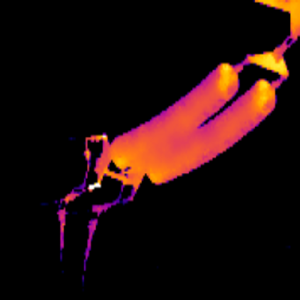insulator: (109, 62, 239, 170), (145, 78, 276, 184)
